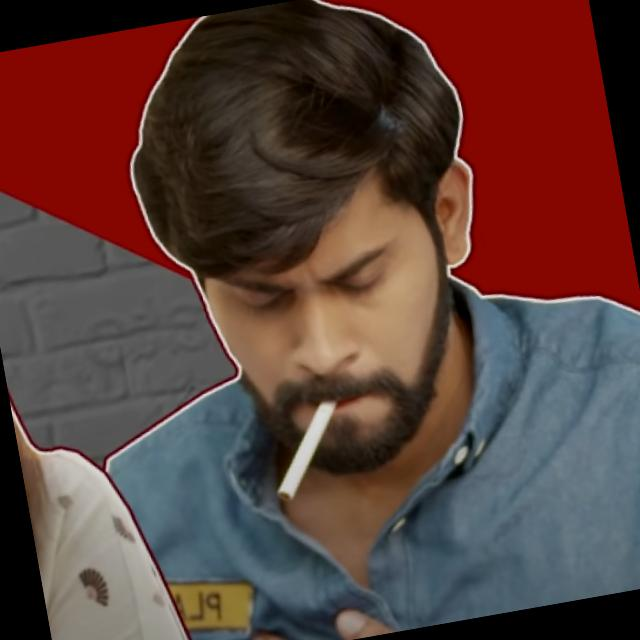cigarette: (255, 395, 350, 510)
